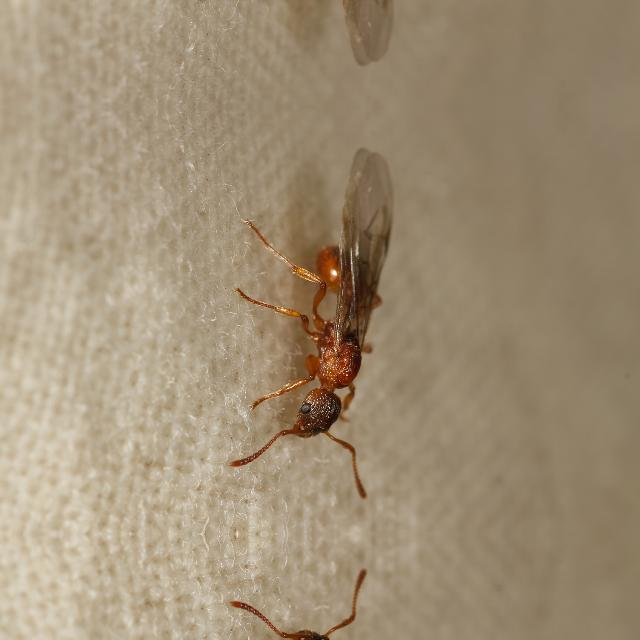Myrmica: (226, 152, 412, 480)
